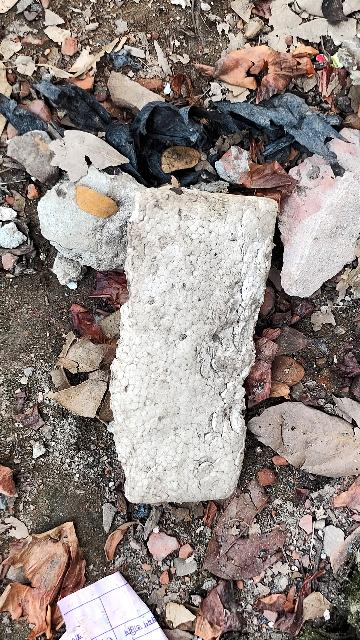cocksheet: (108, 189, 281, 518)
